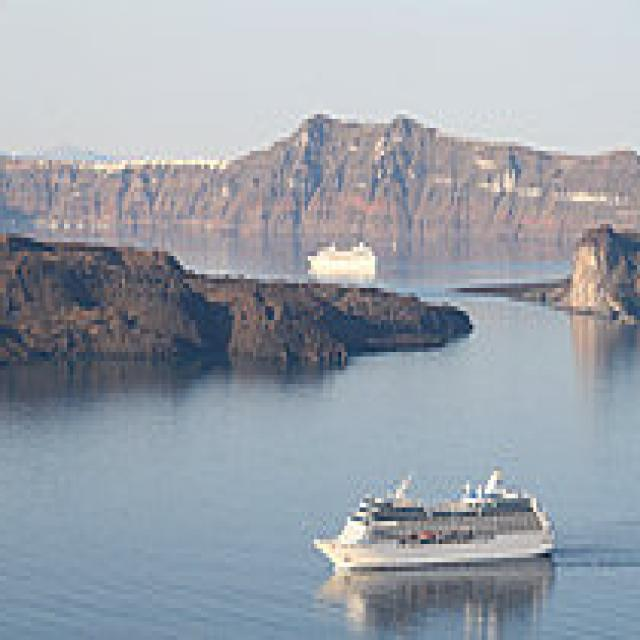Cruise: (317, 452, 564, 572), (308, 233, 384, 274)
